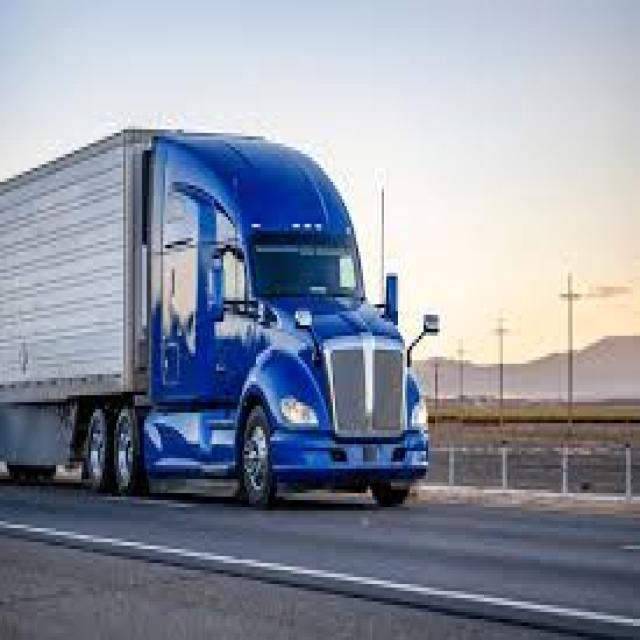covered: (0, 122, 438, 508)
